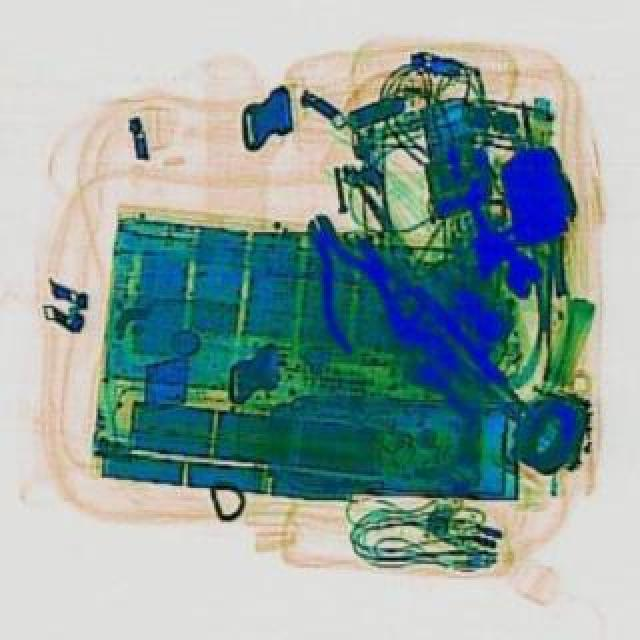wrench: (276, 198, 408, 354)
